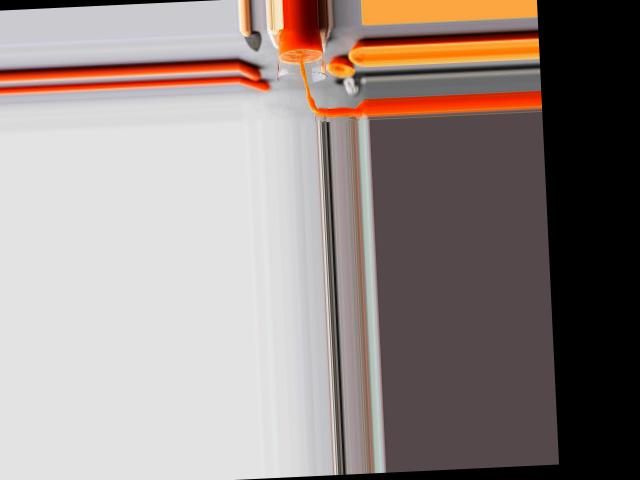carrot: (238, 56, 271, 90)
